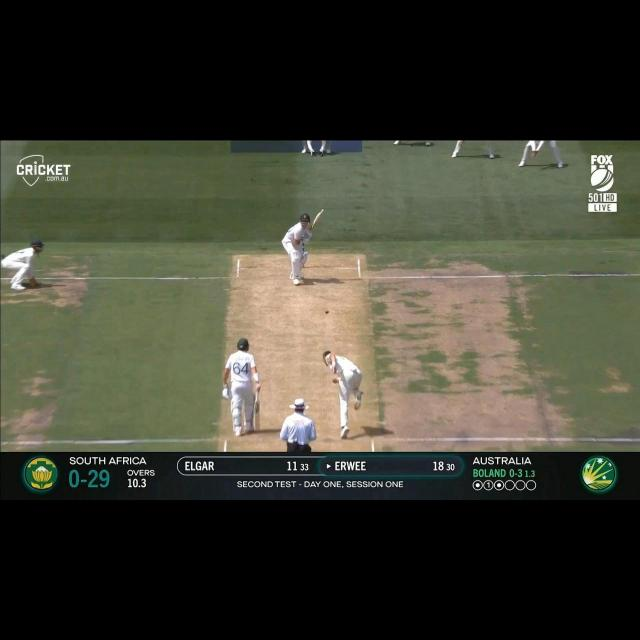bat: (308, 208, 326, 231), (254, 400, 260, 432)
toe: (318, 207, 325, 216), (254, 426, 260, 433)
